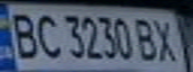0: (112, 14, 136, 61)
2: (78, 11, 100, 61)
3: (57, 11, 84, 61), (97, 12, 118, 61)
B: (3, 8, 42, 61), (130, 15, 163, 63)
C: (30, 9, 63, 61)
X: (148, 16, 184, 63)
